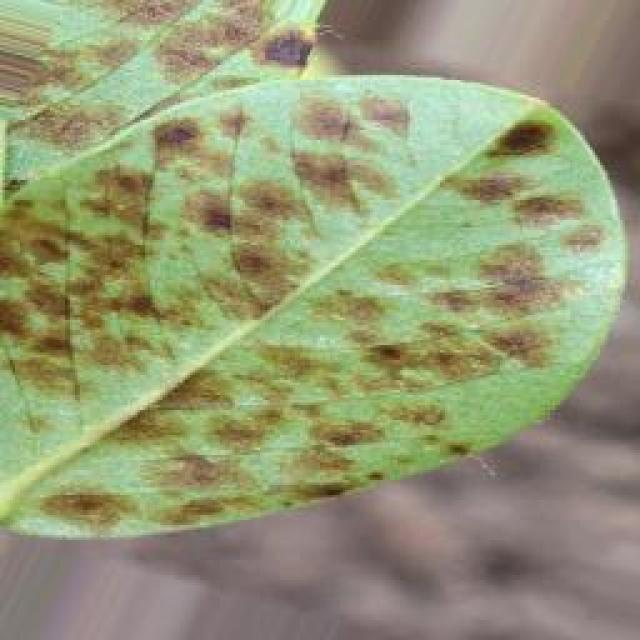Whitefly: (0, 0, 610, 588)
